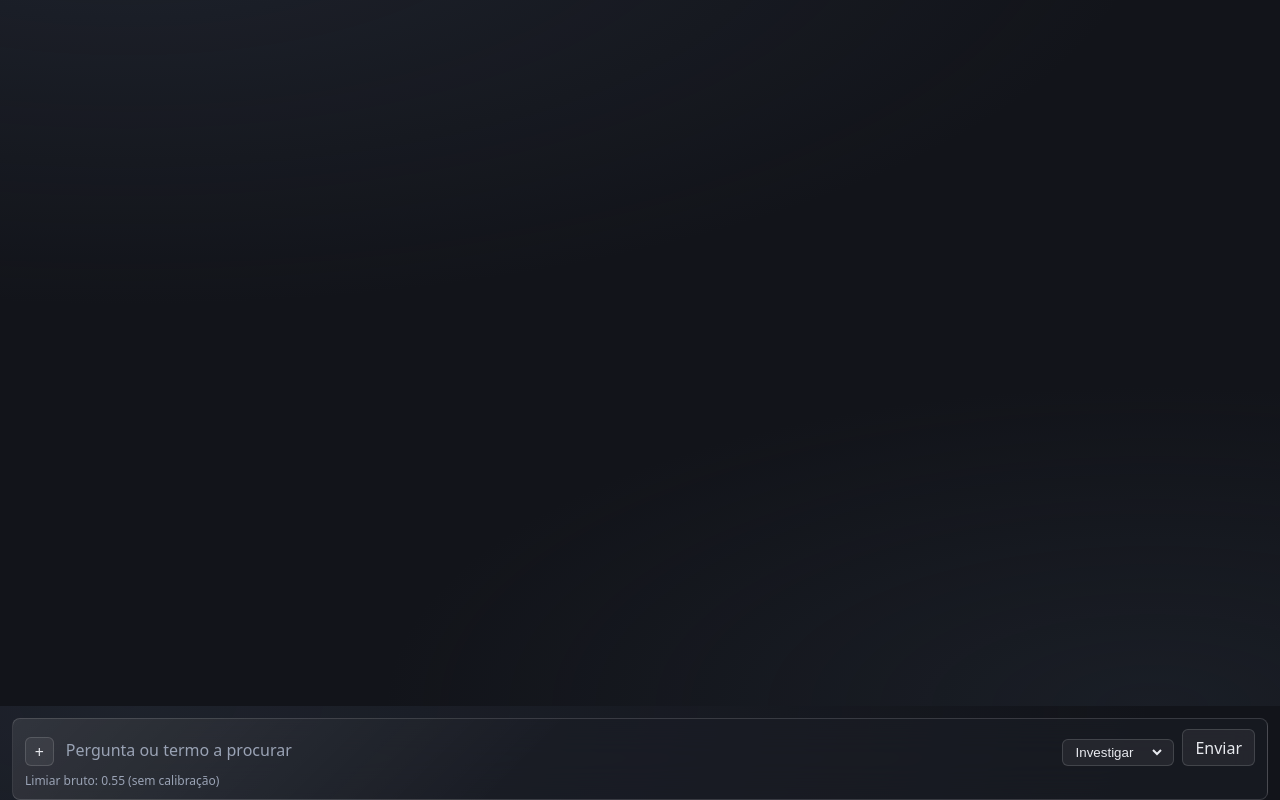
it: REG-BAR-002 › botão + abre menu vidro com modos
(page scrolled)
Click the button named "Escolhe um modo": (39, 752) [25,737,54,766]
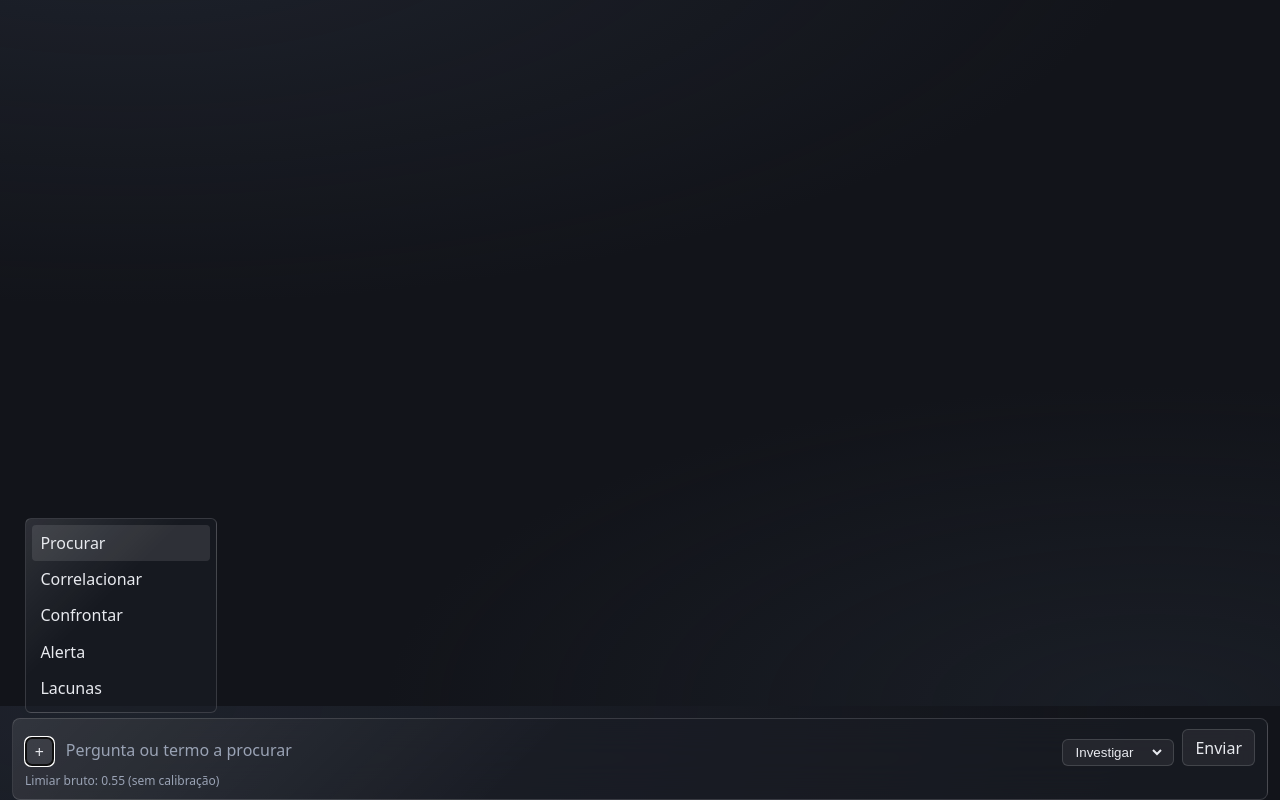
Expected: the menu item "Procurar" is shown, [32,524,210,561]
Expected: the menu item "Correlacionar" is shown, [32,561,210,597]
Expected: the menu item "Confrontar" is shown, [32,597,210,634]
